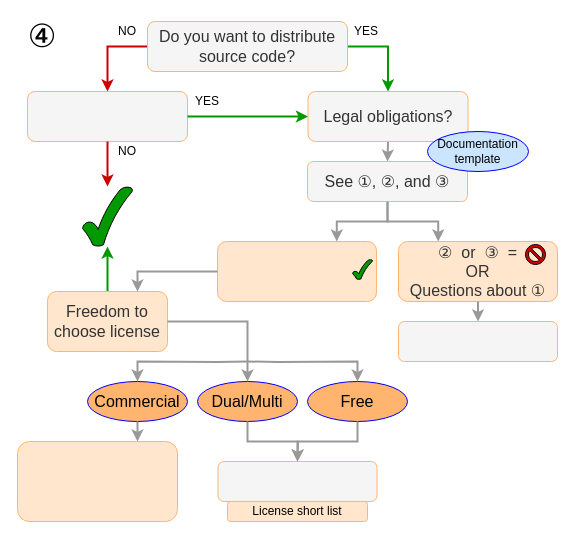
Some shapes in this 575 by 539 pixel diagram are drawn without their labels. The box of each missing label's shape, as (x1, y1, x2, y2) in pixels:
Contact technology transfer office or patent utilization agency: (16, 440, 178, 522)
Go to legal: (398, 320, 558, 362)
Open access (no source)?: (26, 90, 188, 142)
OSS or (just) FREE: (217, 460, 377, 502)
①, ② and ③ =: (216, 240, 376, 302)
